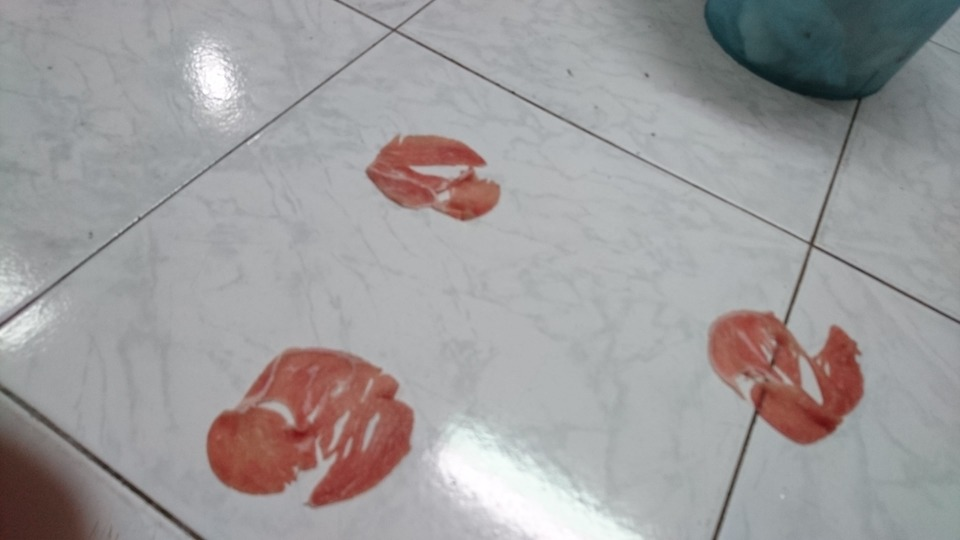restructured meat: (203, 346, 416, 506), (701, 298, 870, 447), (365, 128, 504, 219)
